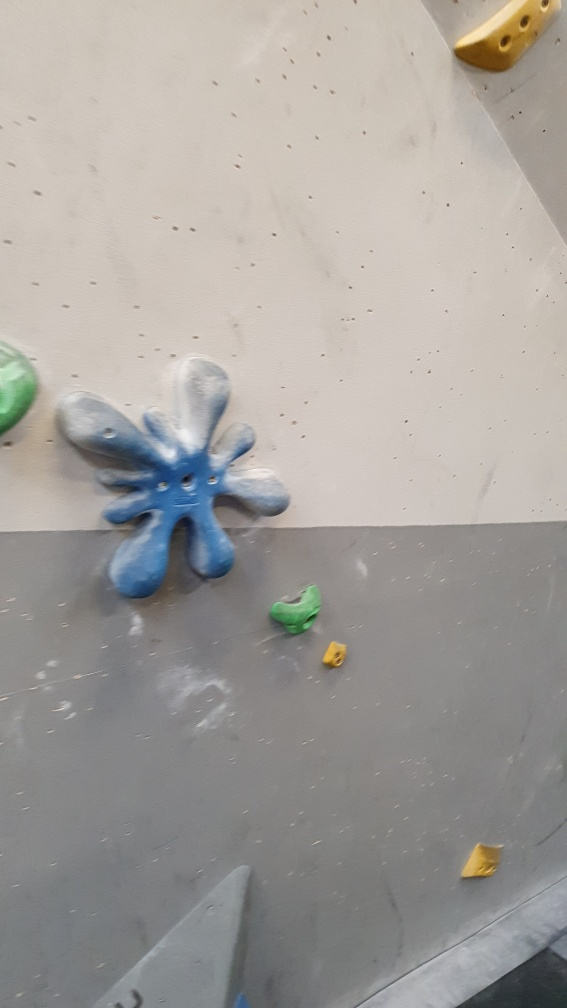Jug: (271, 580, 327, 637)
Octopus Pinch: (53, 352, 292, 609)
